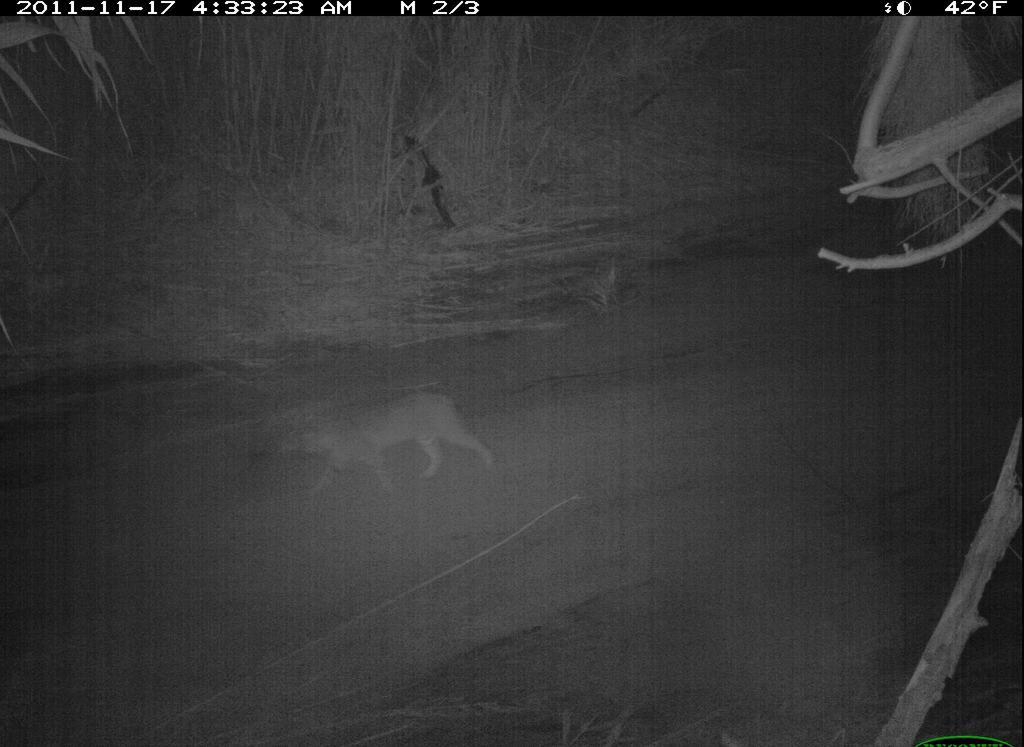bobcat: (274, 386, 500, 501)
